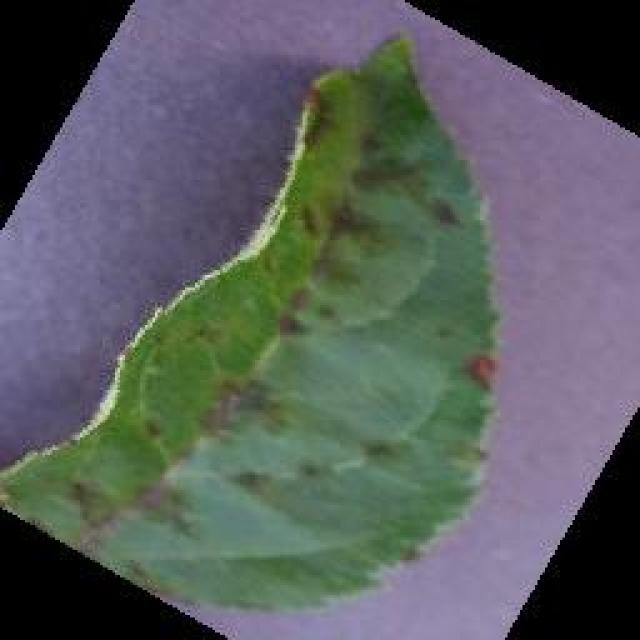Apple___Apple_scab: (0, 29, 514, 616)
